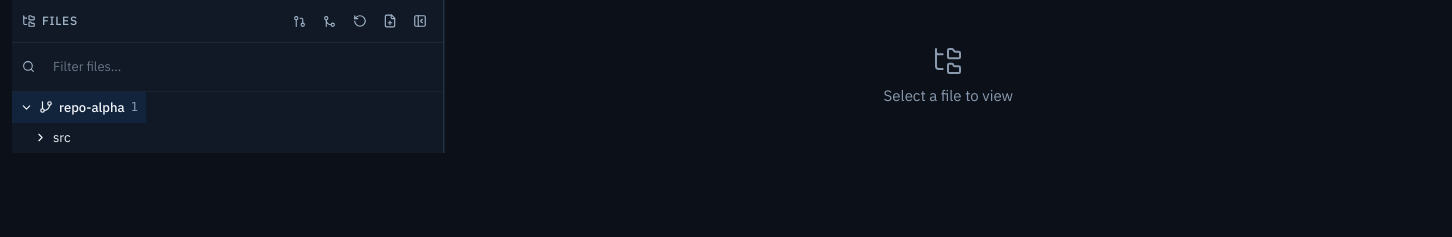
Test: UnifiedRepoView lazy directory tree › creates a sibling file inline when a file is selected
Click the button "src". click: (45, 138)
box: [12, 123, 79, 152]
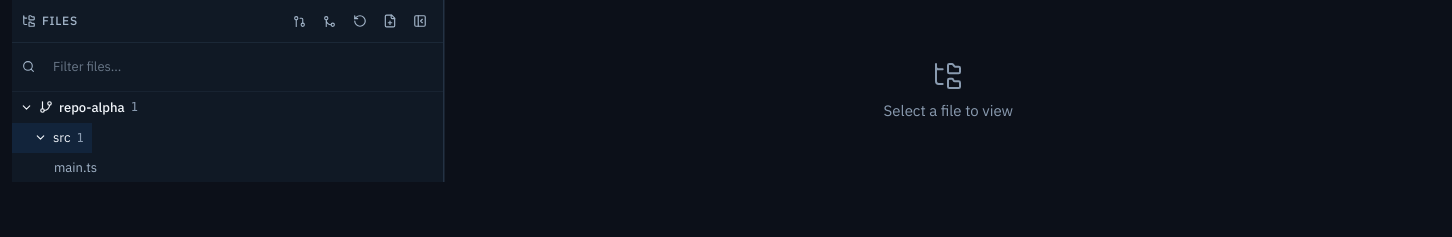
Result: the button titled "src/main.ts" is shown
Click the button titled "src/main.ts". click: (76, 167)
box: [12, 153, 437, 182]
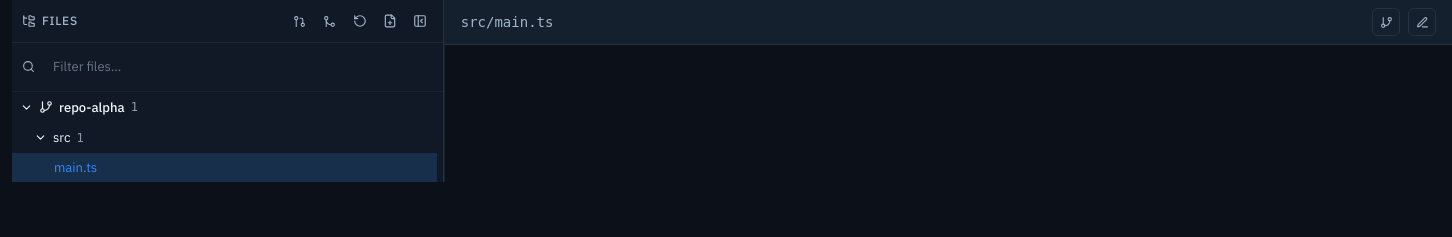
Click the button titled "New file". click: (390, 21)
box: [377, 8, 403, 34]
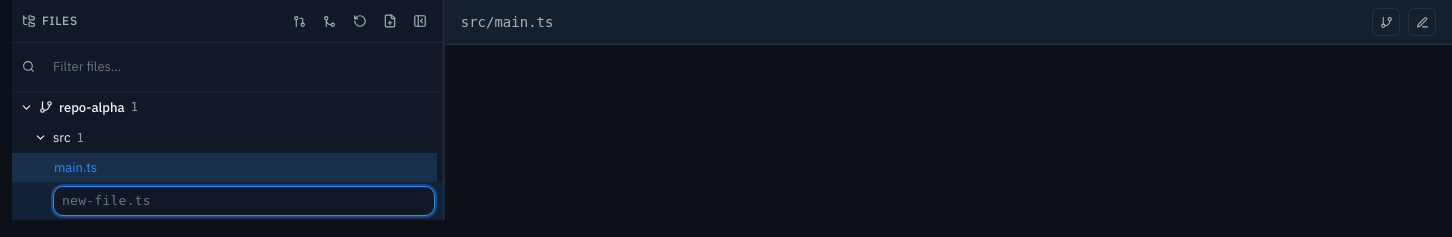
Type "sibling.ts" into the field with placeholder "new-file.ts". click: (244, 201)
box: [53, 186, 435, 216]
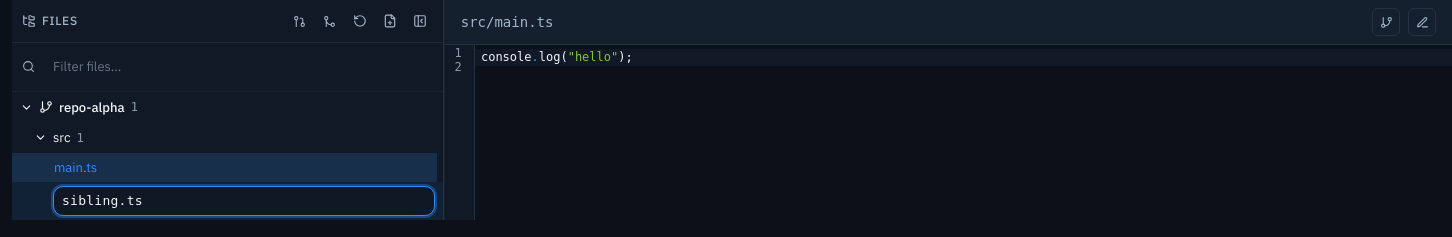
Press Enter in the field with placeholder "new-file.ts", box [53, 186, 435, 216]
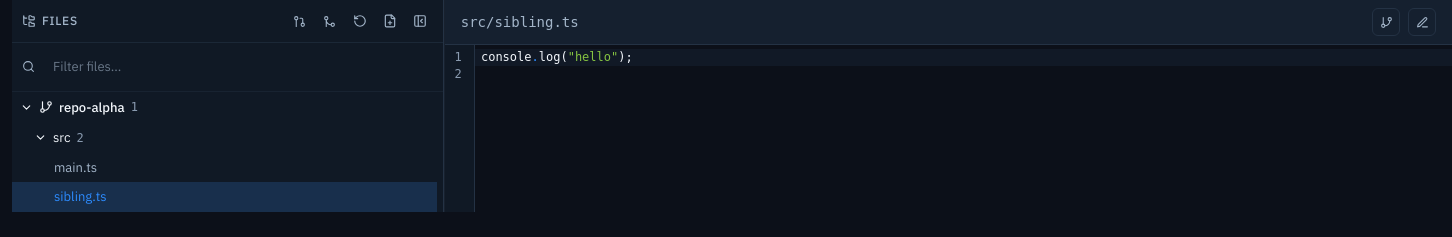
Result: the button titled "src/sibling.ts" is shown at [12, 182, 437, 212]
